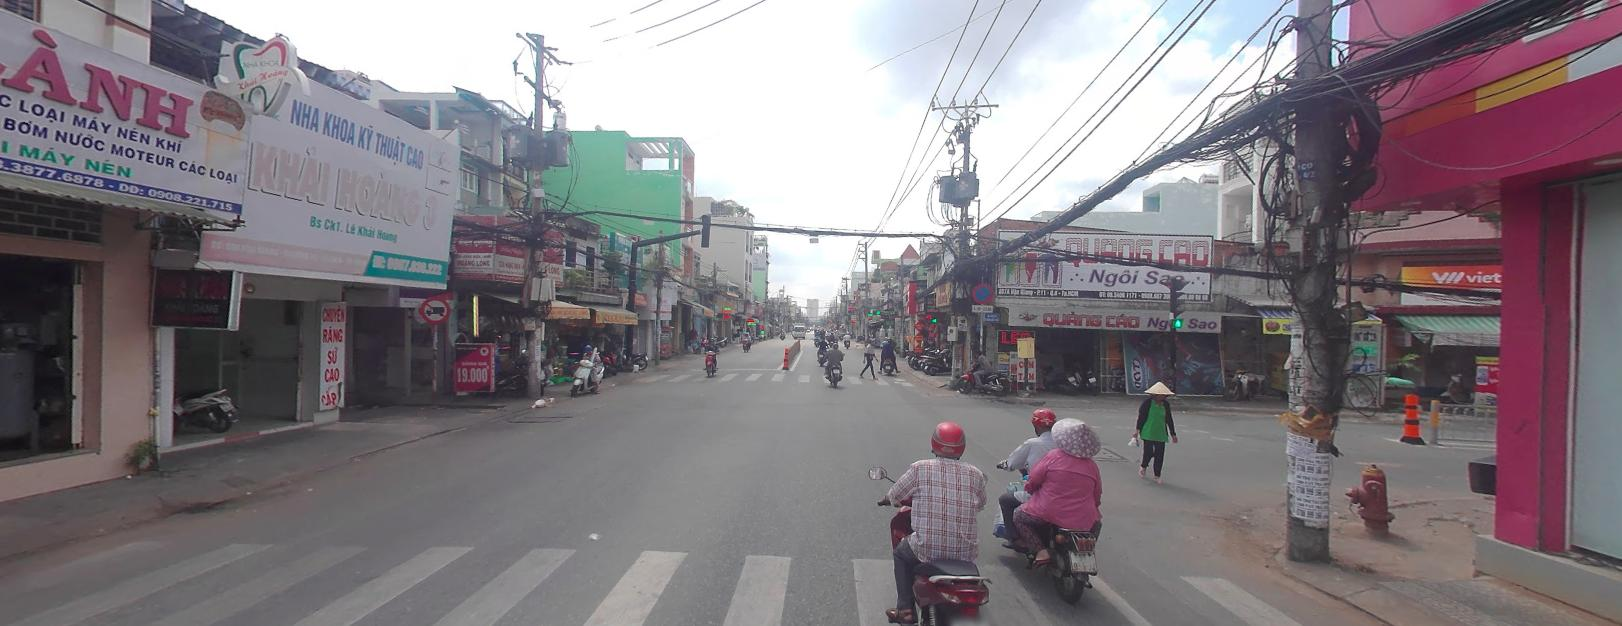Cam dung va do: (971, 282, 994, 302)
